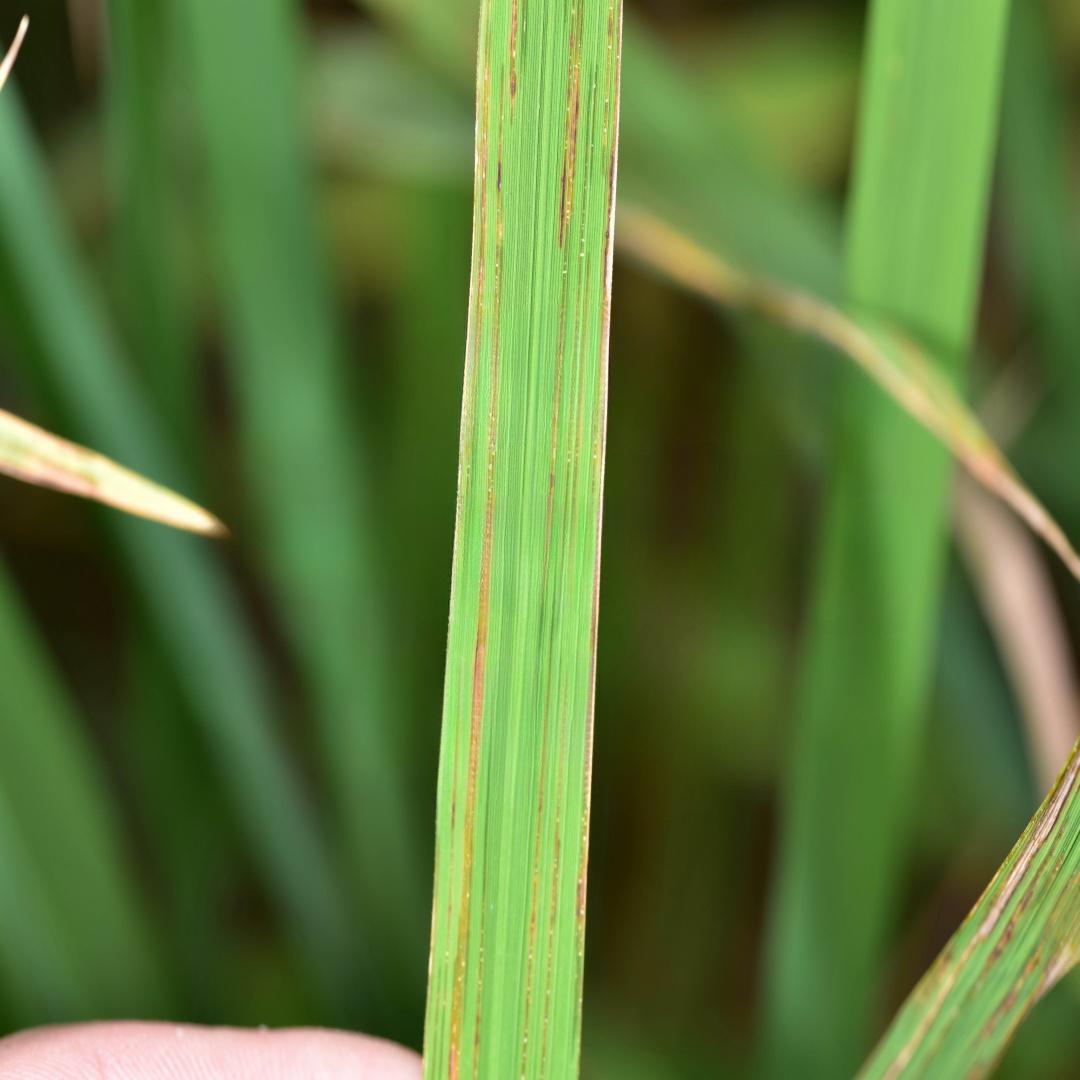BLS: (447, 62, 505, 1079), (571, 0, 623, 1066), (537, 1, 585, 651), (450, 0, 491, 622), (520, 590, 555, 1079), (563, 64, 591, 567), (539, 674, 570, 1079), (438, 689, 461, 1078), (472, 710, 492, 1078), (424, 834, 440, 1077), (508, 0, 518, 126), (431, 965, 442, 1078), (591, 63, 599, 168), (520, 0, 528, 57)
LEAF: (423, 0, 623, 1079)
